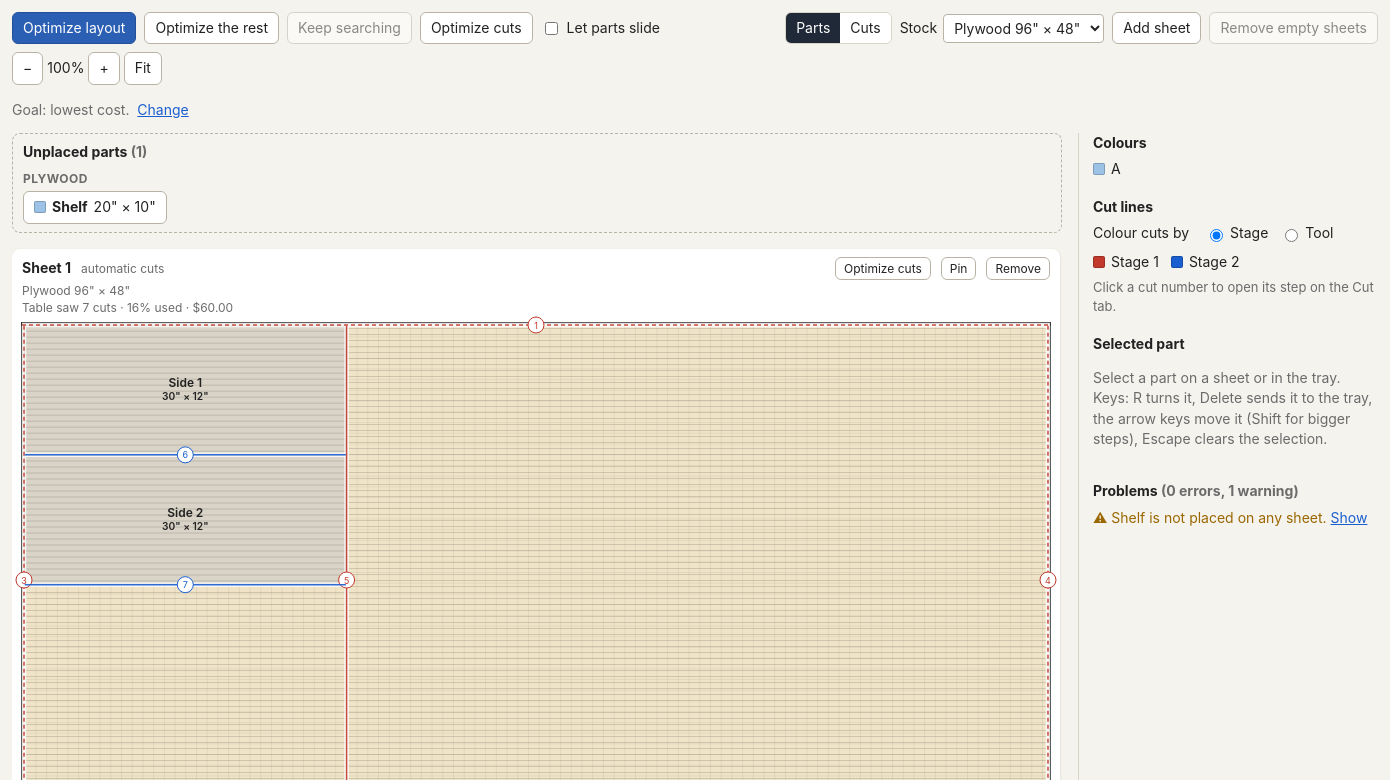
LayoutTab › optimizes in a worker and applies a plan that places every part
Click the button "Optimize layout" at (74,28), box [12, 12, 136, 44]
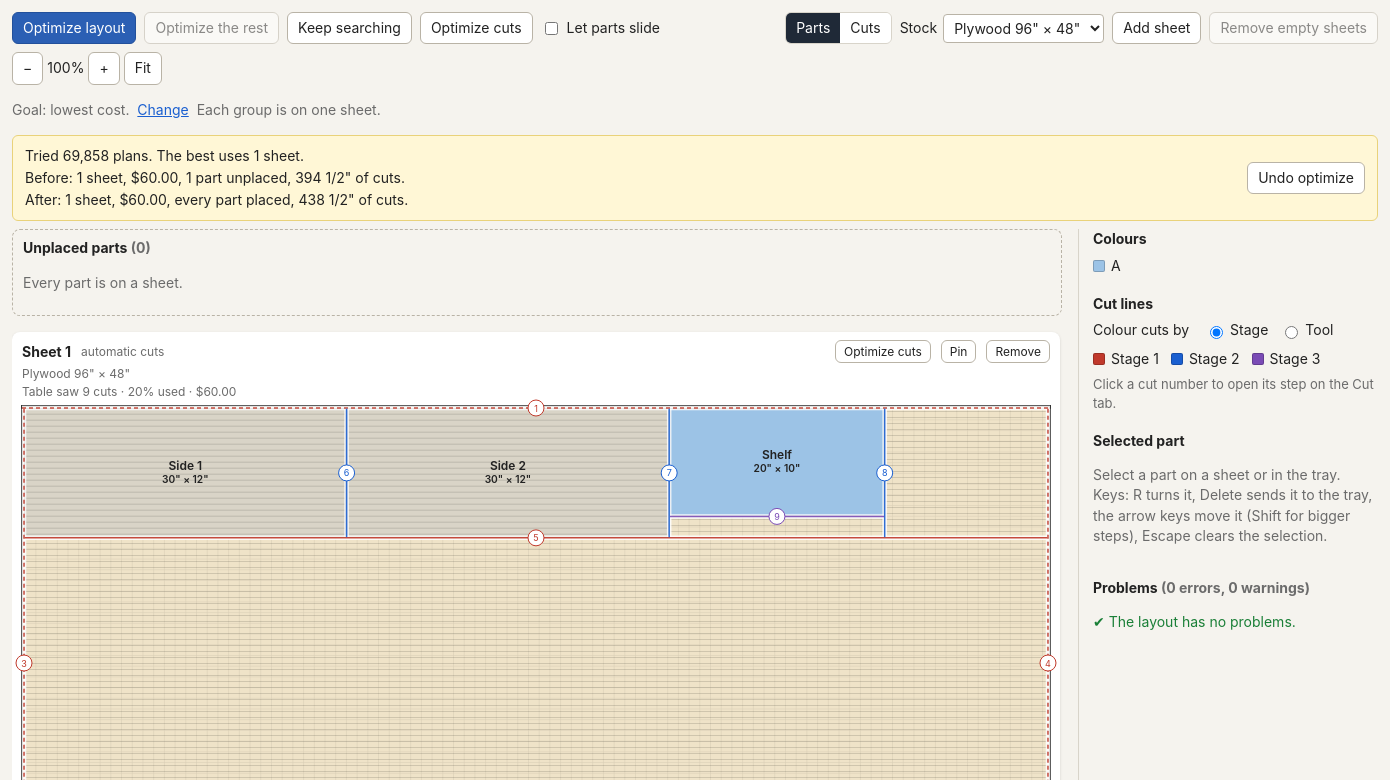
Expected: the text "Every part is on a sheet." is shown, [23, 274, 183, 291]
Expected: the button "Keep searching" is enabled, [287, 12, 412, 44]
